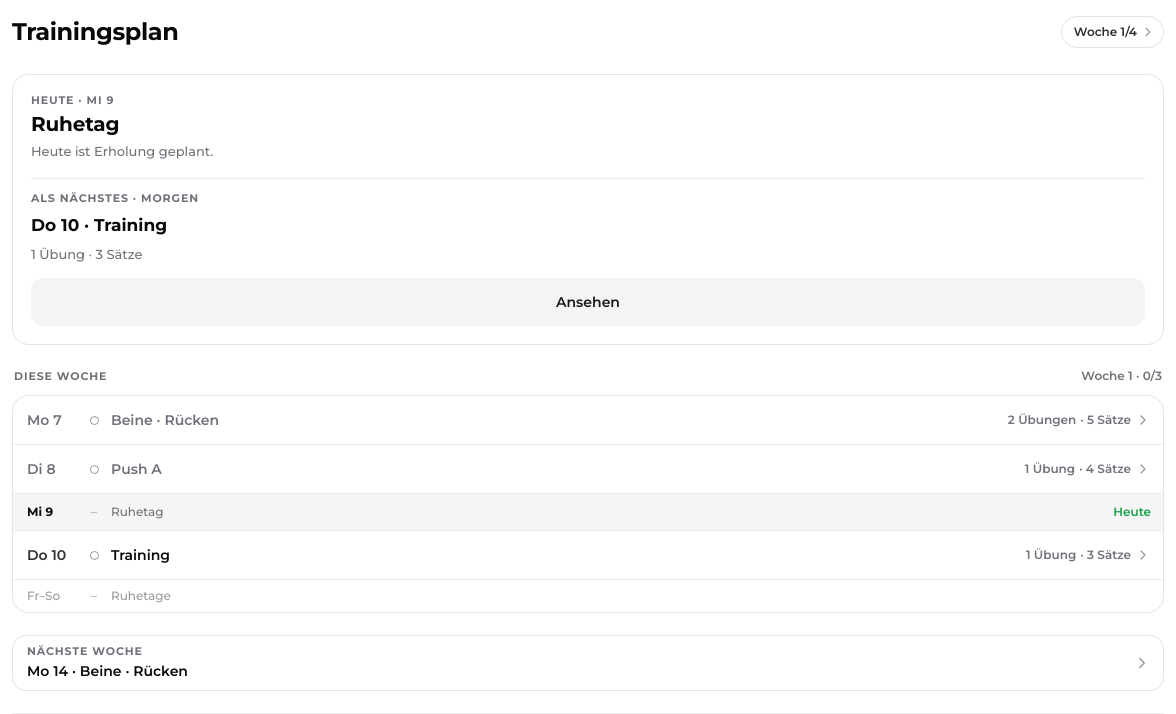
Test: Trainingsplan main › shows a rest day with the next workout, and no start
expect the heading "Ruhetag" is shown: met, box [31,112,119,136]
expect the text "Als Nächstes · Morgen" is shown: met, box [31,191,199,205]
Click the button with aria-label "Ansehen: Do 10".
click(588, 302)  # box [31,278,1145,326]
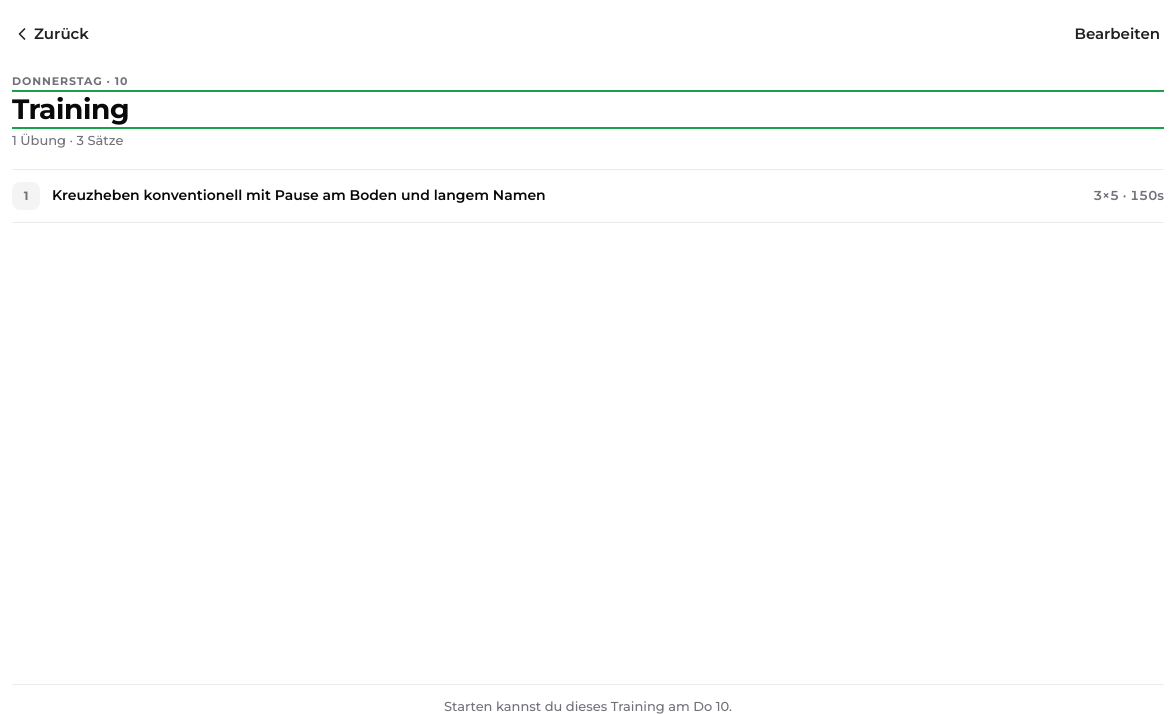
expect the text "Donnerstag · 10" is shown: met, box [12,74,128,88]
